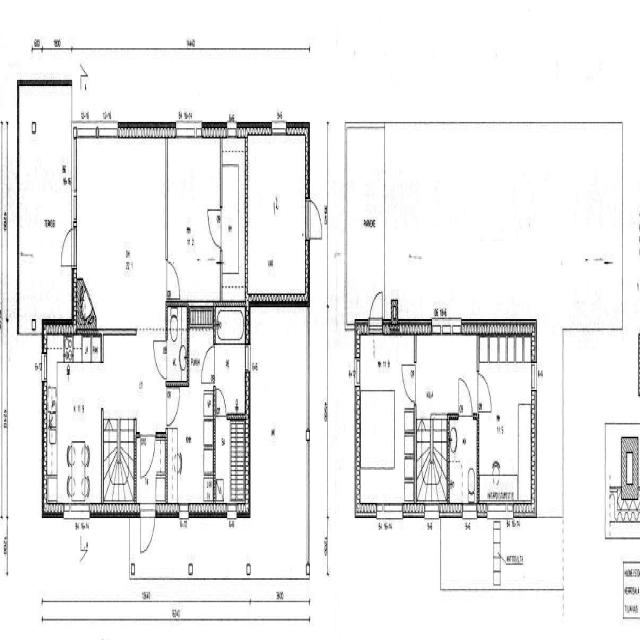door: (191, 330, 214, 385), (139, 504, 157, 560), (305, 193, 324, 243), (205, 202, 223, 254), (140, 432, 156, 482), (60, 225, 76, 273), (165, 256, 182, 300), (165, 384, 181, 429), (368, 285, 383, 332), (401, 358, 416, 404), (152, 338, 168, 380), (477, 369, 492, 413), (458, 374, 473, 418), (200, 341, 216, 382), (214, 384, 228, 421)
window: (69, 130, 79, 229), (62, 222, 78, 271), (173, 117, 201, 143), (62, 502, 92, 526), (377, 502, 404, 527), (95, 120, 120, 143), (270, 118, 288, 141), (423, 504, 441, 525), (530, 355, 538, 398), (486, 506, 506, 523), (225, 119, 240, 140), (177, 503, 191, 525), (462, 507, 477, 527), (225, 506, 238, 525)
zone: (75, 136, 167, 334), (18, 84, 73, 320), (42, 329, 102, 510), (356, 333, 415, 514), (478, 325, 535, 509), (247, 136, 308, 306), (166, 134, 221, 302), (345, 123, 385, 326), (166, 383, 214, 513), (415, 333, 478, 416), (18, 84, 70, 167), (220, 139, 246, 298), (214, 303, 248, 415), (214, 416, 247, 515), (448, 414, 479, 511), (166, 301, 189, 386), (190, 316, 214, 384)
